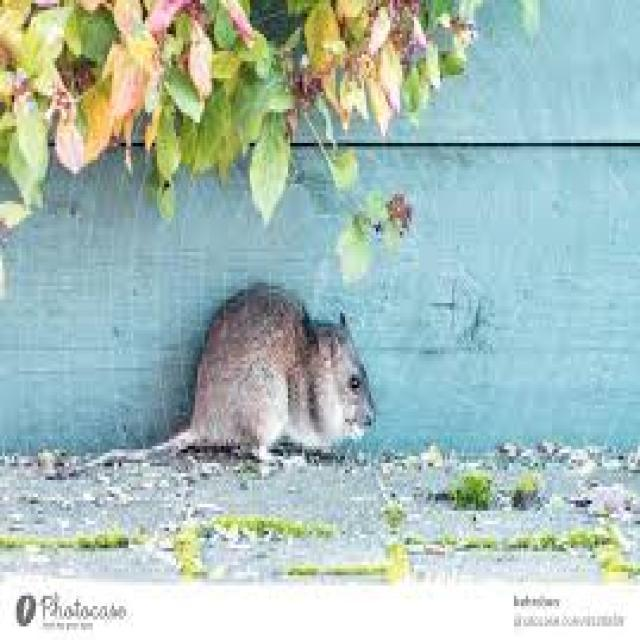Rat: (131, 251, 410, 513)
